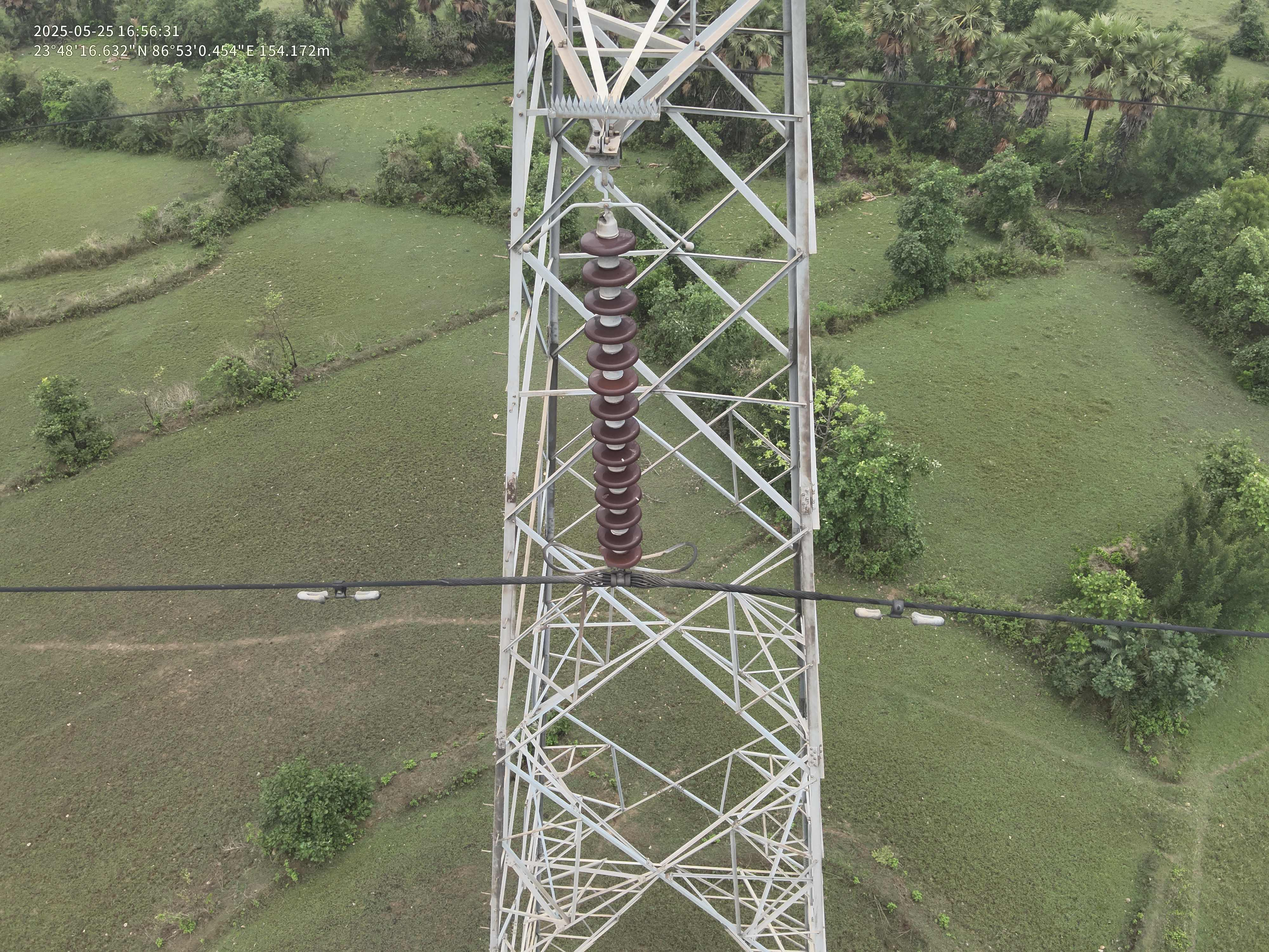broken_insulator: (597, 545, 646, 569)
